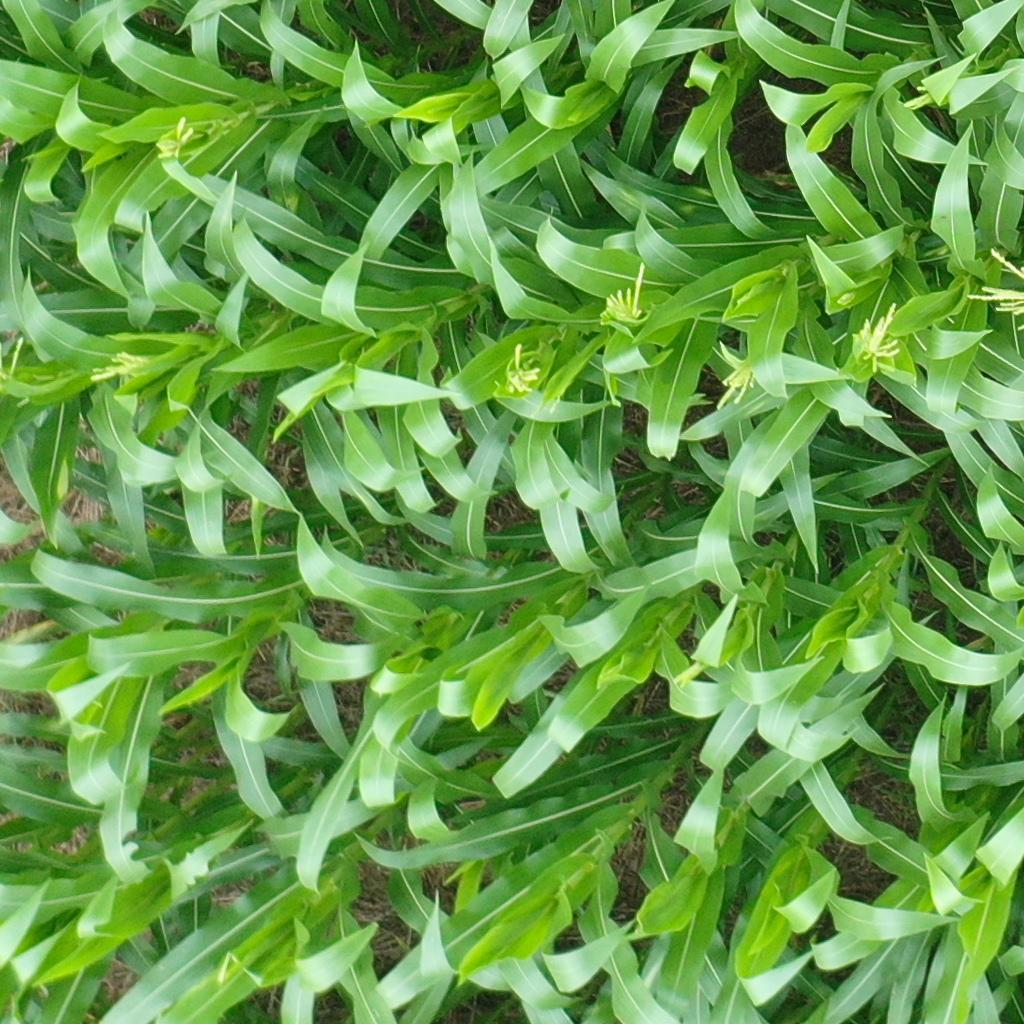Tassel: (966, 244, 1024, 337), (598, 256, 650, 327), (854, 301, 899, 374), (500, 343, 541, 396), (91, 349, 148, 381), (157, 114, 194, 161), (715, 370, 757, 411), (670, 656, 705, 689), (902, 82, 935, 112)
